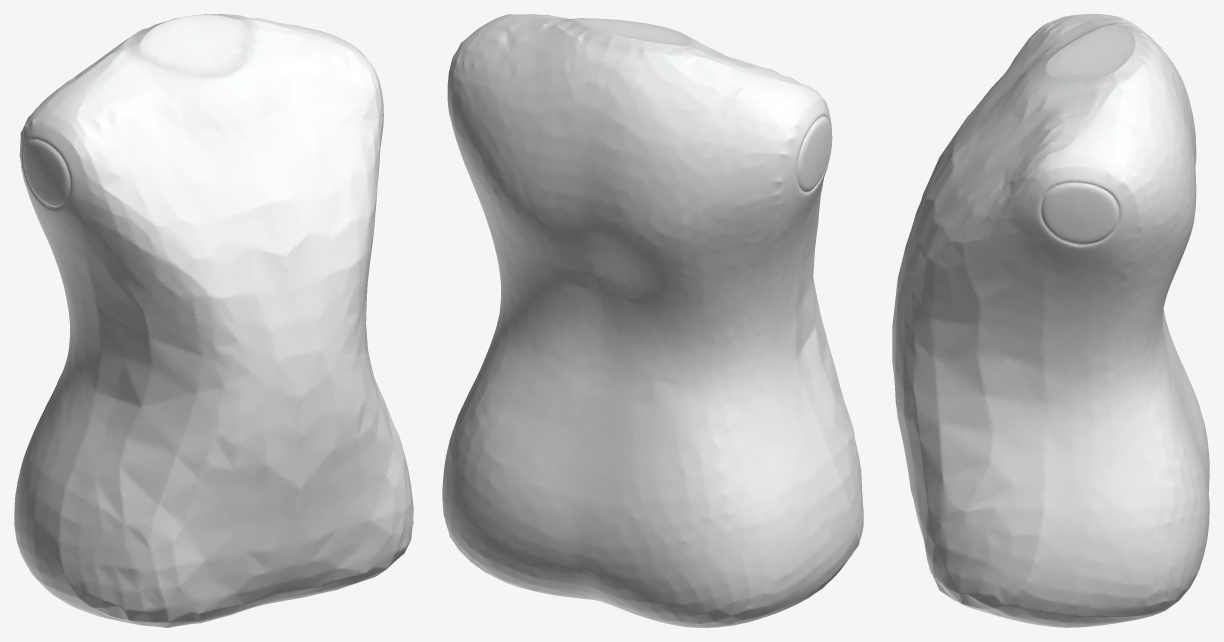
File: torso.glb
3 renders of one model, left to right at view 1: azimuth 30°, elevation 25°; view 2: azimuth 150°, elevation 25°; view 3: azimuth 270°, elevation 25°, orthographic. The views are drawn at different scales.
Visible parts, largest first — view 1: mesh_node; view 2: mesh_node; view 3: mesh_node.
Boxes of the visible parts, bbox=[...] form: mesh_node: bbox=[14, 14, 413, 627]; mesh_node: bbox=[442, 14, 863, 627]; mesh_node: bbox=[892, 14, 1209, 627].
Bounding box in the file's own units: 0.0798 × 0.12 × 0.0643.
Materials: 1 (1 with a texture image).
